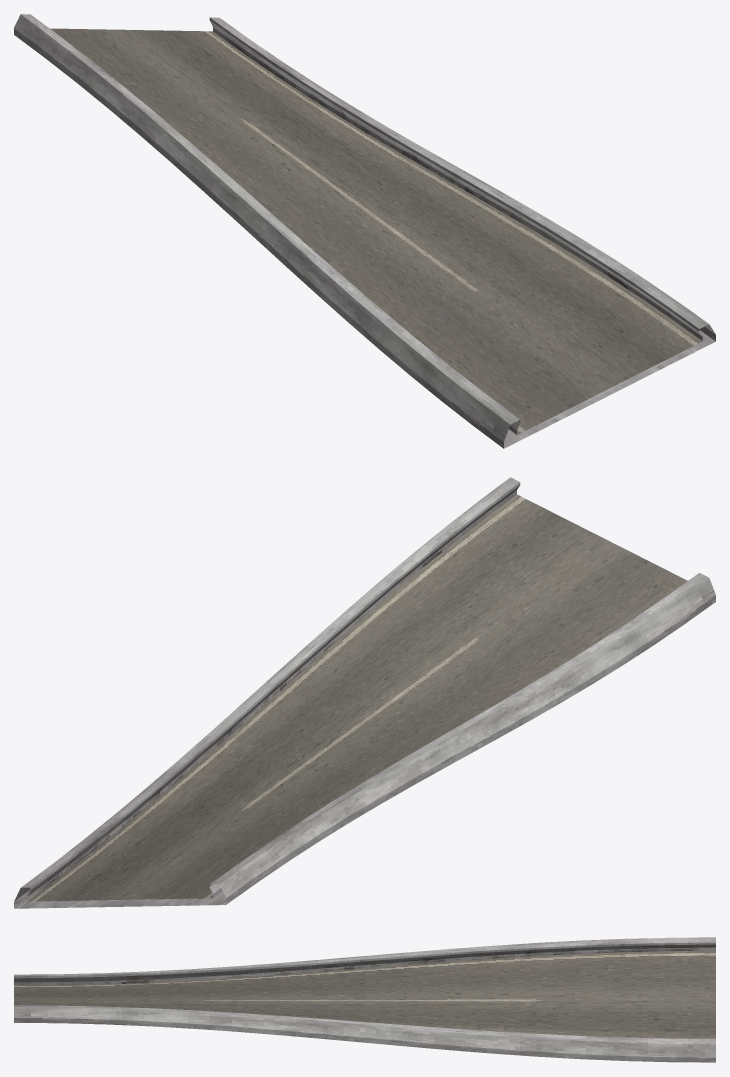
File: straight4.glb
The picture shows the model from 3 angles, top to bottom: view 1: azimuth 30°, elevation 25°; view 2: azimuth 150°, elevation 25°; view 3: azimuth 270°, elevation 25°; orthographic projection. The views are drawn at different scales.
Parts seen in each view (by area): view 1: road-Straight-HalfBankedLeft-HalfBankedRight-Even-Center-Siz; view 2: road-Straight-HalfBankedLeft-HalfBankedRight-Even-Center-Siz; view 3: road-Straight-HalfBankedLeft-HalfBankedRight-Even-Center-Siz.
Boxes of the visible parts, x1=… form: road-Straight-HalfBankedLeft-HalfBankedRight-Even-Center-Siz: x1=14, y1=14, x2=715, y2=448; road-Straight-HalfBankedLeft-HalfBankedRight-Even-Center-Siz: x1=14, y1=477, x2=715, y2=908; road-Straight-HalfBankedLeft-HalfBankedRight-Even-Center-Siz: x1=14, y1=937, x2=715, y2=1062.
Bounding box in the file's own units: 1 × 0.3359 × 4.
Materials: 2 (2 with a texture image).
